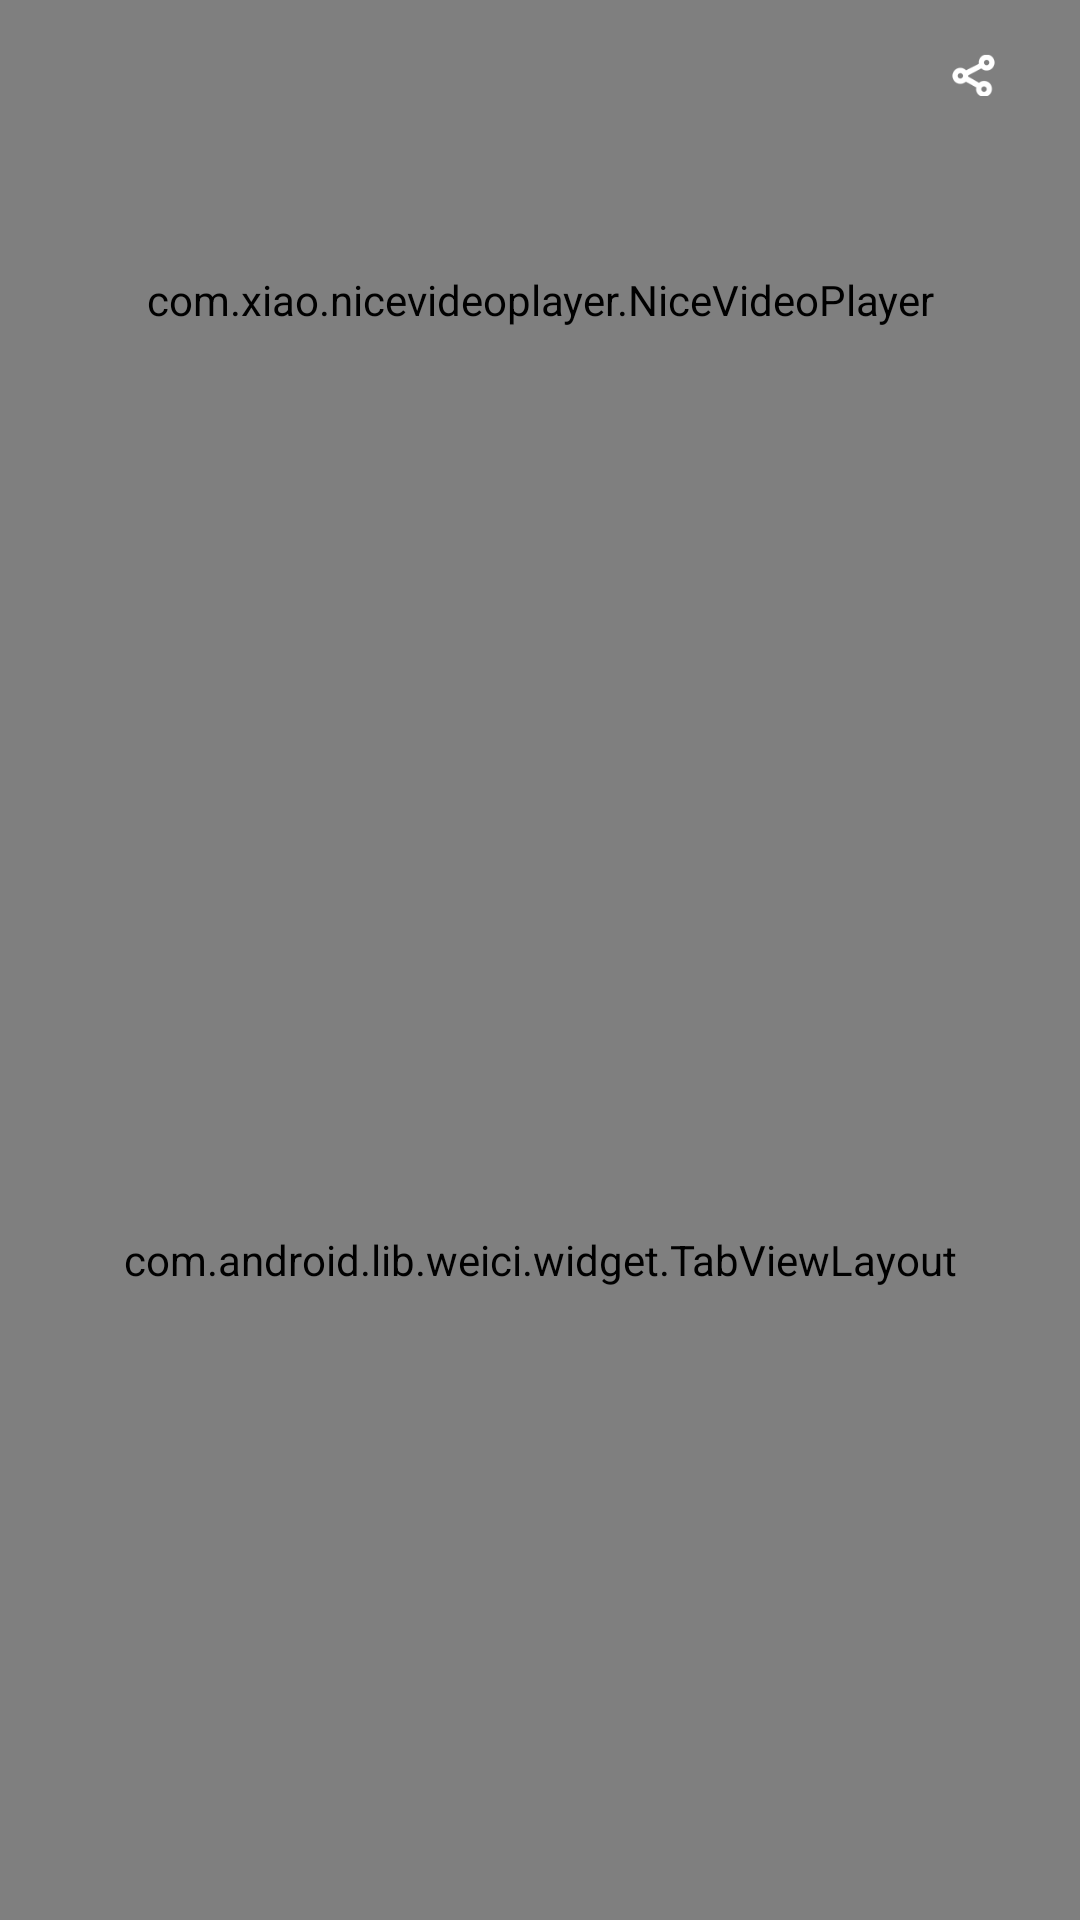

Point at icon controls on the screen. Image size 1080 x 1920, points as [x,y].
share: [973,75]
